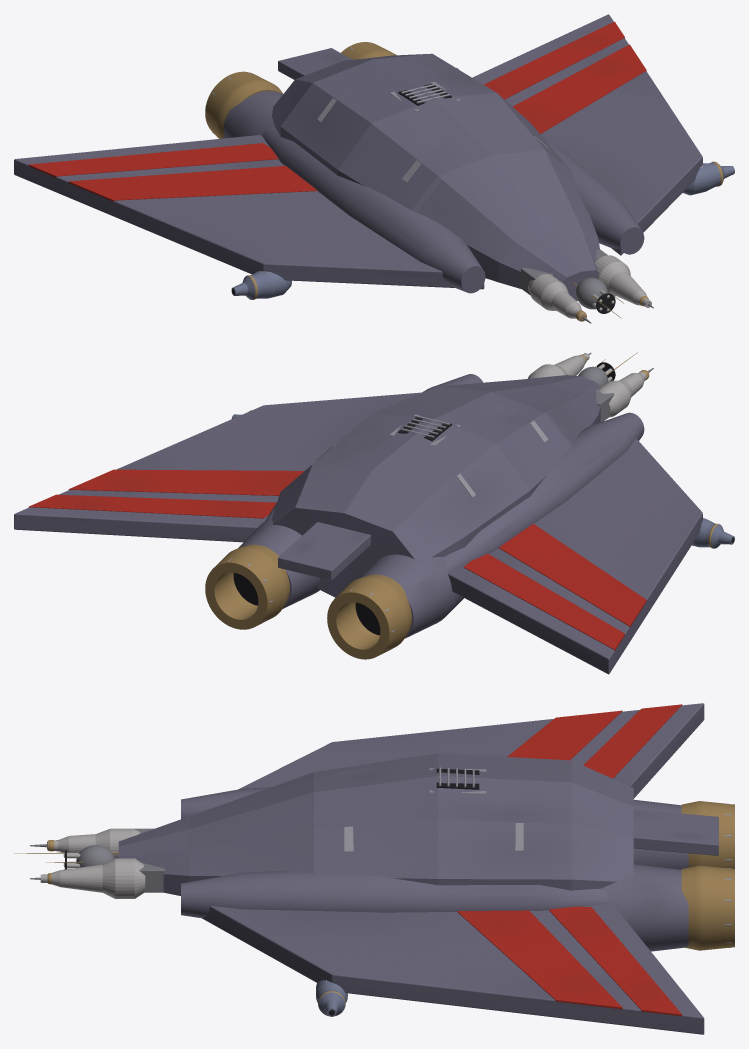
The model's file is terminator.glb.
3 views of the same model, one above another, from view 1: azimuth 30°, elevation 25°; view 2: azimuth 150°, elevation 25°; view 3: azimuth 270°, elevation 25° (orthographic). The views are drawn at different scales.
Visible parts, largest first — view 1: Terminator continuous faceted hull, Terminator swept outer wing -1, Terminator swept outer wing 1, Terminator inner wing fairing -1, Terminator red wing band -1 0, Terminator red wing band 1 0, Terminator red wing band -1 1, Terminator inner wing fairing 1, Terminator red wing band 1 1, Terminator exhaust -1, Terminator aft engine housing -1, Anterior sensor or communications housing 1 (+6 smaller); view 2: Terminator continuous faceted hull, Terminator swept outer wing -1, Terminator swept outer wing 1, Terminator inner wing fairing -1, Terminator red wing band -1 0, Terminator exhaust -1, Terminator exhaust 1, Terminator red wing band 1 0, Terminator aft engine housing -1, Terminator red wing band -1 1, Terminator red wing band 1 1, Terminator aft dorsal tab (+4 smaller); view 3: Terminator continuous faceted hull, Terminator swept outer wing 1, Terminator inner wing fairing 1, Terminator swept outer wing -1, Terminator red wing band 1 0, Terminator aft engine housing 1, Terminator red wing band 1 1, Terminator exhaust 1, Terminator aft dorsal tab, Terminator red wing band -1 0, Anterior sensor or communications housing 1, Terminator red wing band -1 1 (+7 smaller).
Part boxes in pixels (box(x1,y1,x2,y2)): Terminator continuous faceted hull: box(271, 53, 599, 300); Terminator swept outer wing -1: box(14, 135, 484, 289); Terminator swept outer wing 1: box(472, 14, 702, 255); Terminator inner wing fairing -1: box(262, 127, 485, 293); Terminator red wing band -1 0: box(68, 166, 317, 201); Terminator red wing band 1 0: box(512, 44, 646, 133); Terminator red wing band -1 1: box(28, 143, 278, 177); Terminator inner wing fairing 1: box(541, 135, 644, 254); Terminator red wing band 1 1: box(483, 21, 624, 99); Terminator exhaust -1: box(205, 71, 282, 138); Terminator aft engine housing -1: box(223, 91, 282, 138); Anterior sensor or communications housing 1: box(595, 255, 651, 307); Terminator continuous faceted hull: box(271, 375, 600, 597); Terminator swept outer wing -1: box(448, 438, 702, 674); Terminator swept outer wing 1: box(14, 392, 420, 542); Terminator inner wing fairing -1: box(443, 412, 644, 570); Terminator red wing band -1 0: box(498, 523, 646, 627); Terminator exhaust -1: box(327, 574, 411, 659); Terminator exhaust 1: box(205, 544, 289, 629); Terminator red wing band 1 0: box(68, 469, 304, 495); Terminator aft engine housing -1: box(360, 554, 463, 638); Terminator red wing band -1 1: box(463, 553, 624, 650); Terminator red wing band 1 1: box(28, 494, 276, 518); Terminator aft dorsal tab: box(278, 522, 370, 580); Terminator continuous faceted hull: box(118, 753, 633, 895); Terminator swept outer wing 1: box(201, 904, 704, 1034); Terminator inner wing fairing 1: box(181, 871, 608, 917); Terminator swept outer wing -1: box(238, 703, 704, 798); Terminator red wing band 1 0: box(457, 910, 622, 1009); Terminator aft engine housing 1: box(601, 864, 688, 951); Terminator red wing band 1 1: box(548, 906, 682, 1016); Terminator exhaust 1: box(681, 865, 734, 950); Terminator aft dorsal tab: box(633, 809, 718, 855); Terminator red wing band -1 0: box(507, 710, 622, 760); Anterior sensor or communications housing 1: box(40, 858, 145, 898); Terminator red wing band -1 1: box(583, 704, 682, 778).
Size of the model in its own units: 4.2 by 0.8857 by 4.06.
10 materials, 2 textured.
